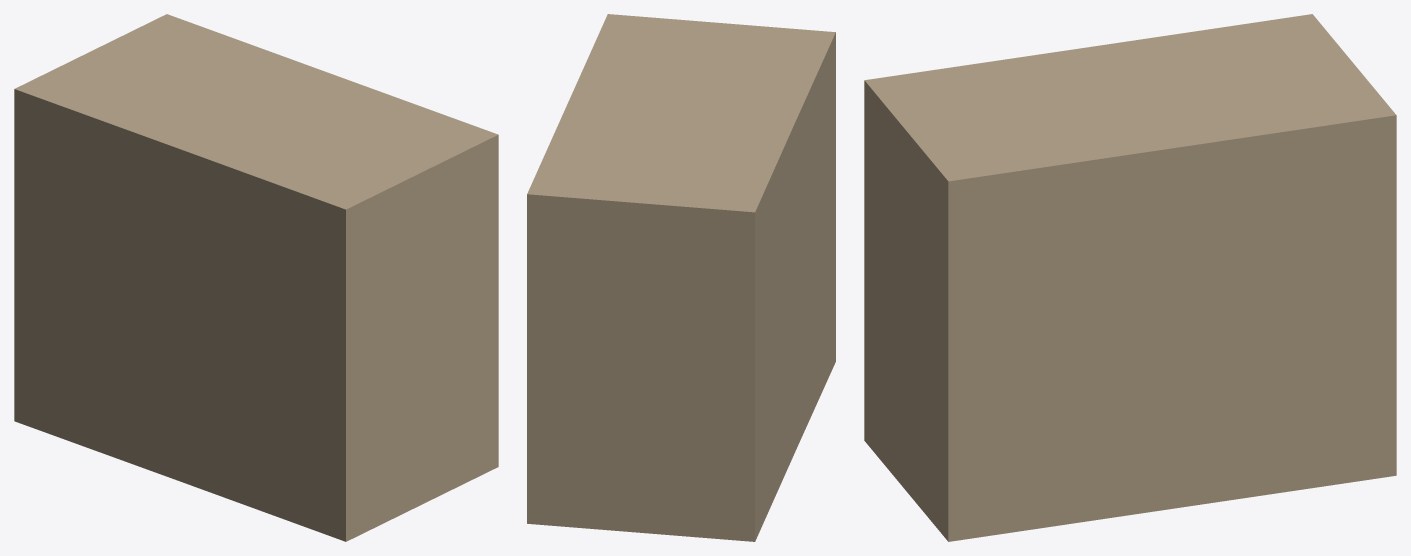
Rendered from bld_100469351.dae.
3 views of the same model, side by side, from view 1: azimuth 30°, elevation 25°; view 2: azimuth 150°, elevation 25°; view 3: azimuth 270°, elevation 25° (orthographic). The views are drawn at different scales.
Parts seen in each view (by area): view 1: bld_100469351; view 2: bld_100469351; view 3: bld_100469351.
Boxes of the visible parts, box(x1,y1,x2,y2) form: bld_100469351: box(14, 14, 498, 541); bld_100469351: box(527, 14, 835, 541); bld_100469351: box(864, 14, 1396, 541).
Size of the model in its own units: 7.97 by 10.7 by 8.
